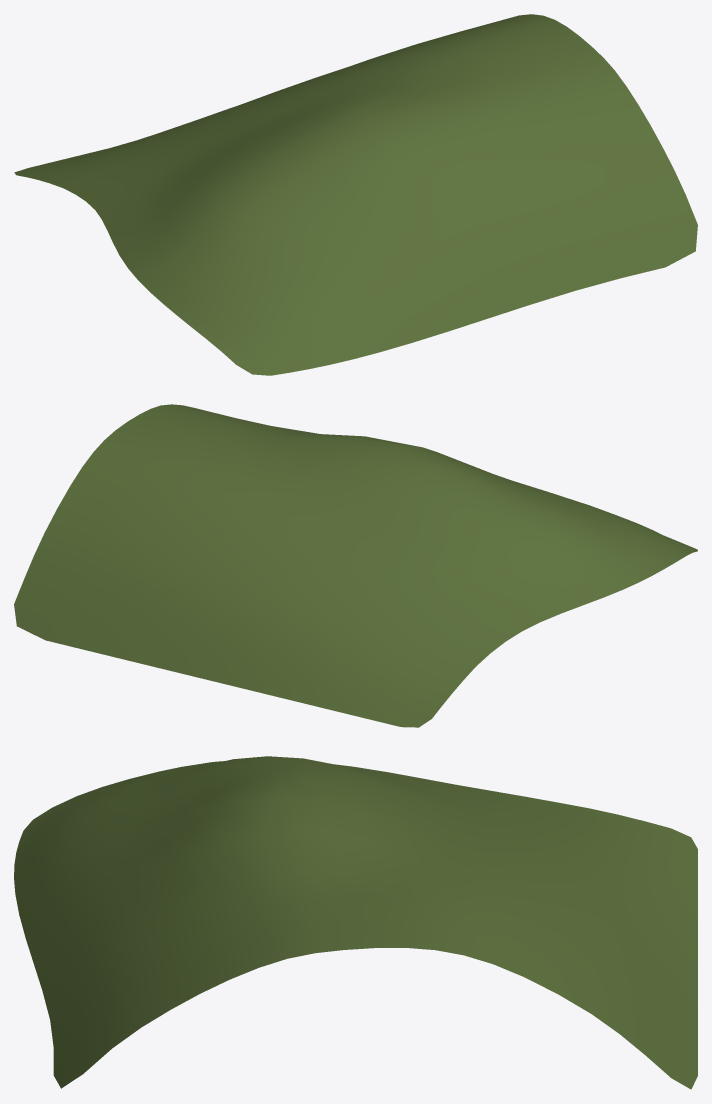
File: firstPlane_hill.fbx
3 renders of one model, top to bottom at view 1: azimuth 30°, elevation 25°; view 2: azimuth 150°, elevation 25°; view 3: azimuth 270°, elevation 25°, orthographic. The views are drawn at different scales.
Visible parts, largest first — view 1: firstPlane_hill; view 2: firstPlane_hill; view 3: firstPlane_hill.
Part boxes in pixels (x1,y1,x2,y2): firstPlane_hill: [14, 14, 697, 375]; firstPlane_hill: [14, 404, 697, 727]; firstPlane_hill: [14, 756, 697, 1089].
Bounding box in the file's own units: 1112 × 275 × 1083.
1 material, 1 textured.
